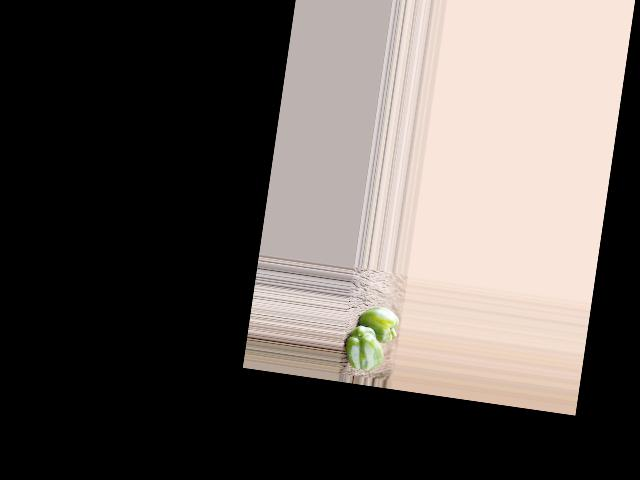bell_pepper: (344, 322, 388, 372)
